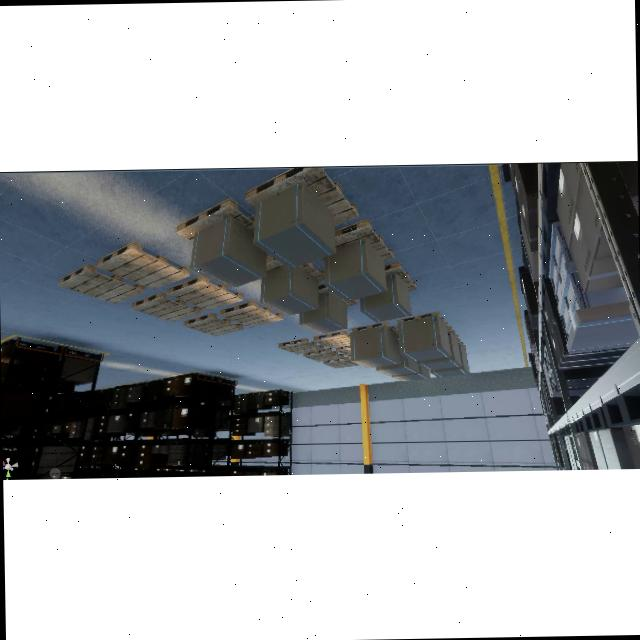wooden_pallet: (245, 166, 359, 226), (95, 242, 190, 290), (175, 197, 254, 243), (57, 263, 145, 304), (167, 276, 243, 312), (335, 219, 394, 261), (130, 291, 201, 323), (219, 301, 283, 329), (183, 313, 244, 338), (385, 261, 418, 292), (396, 312, 448, 327), (278, 338, 323, 354), (351, 321, 398, 336), (312, 330, 350, 348), (304, 348, 344, 362), (323, 356, 359, 368), (336, 345, 351, 357)
